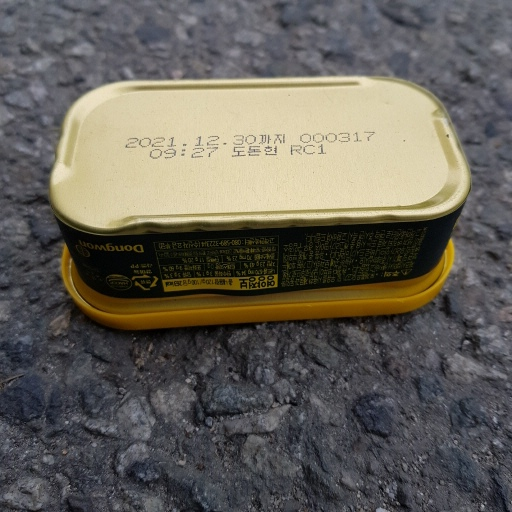Metal_2: (49, 73, 472, 328)
